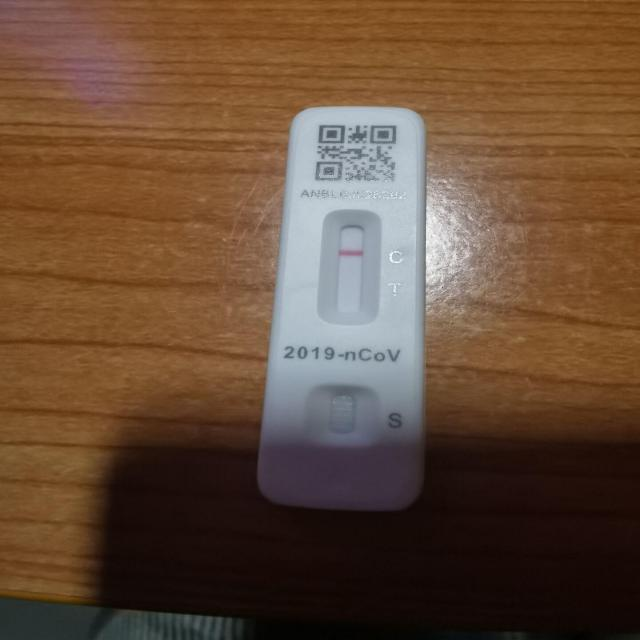qr_code: (315, 125, 397, 183)
